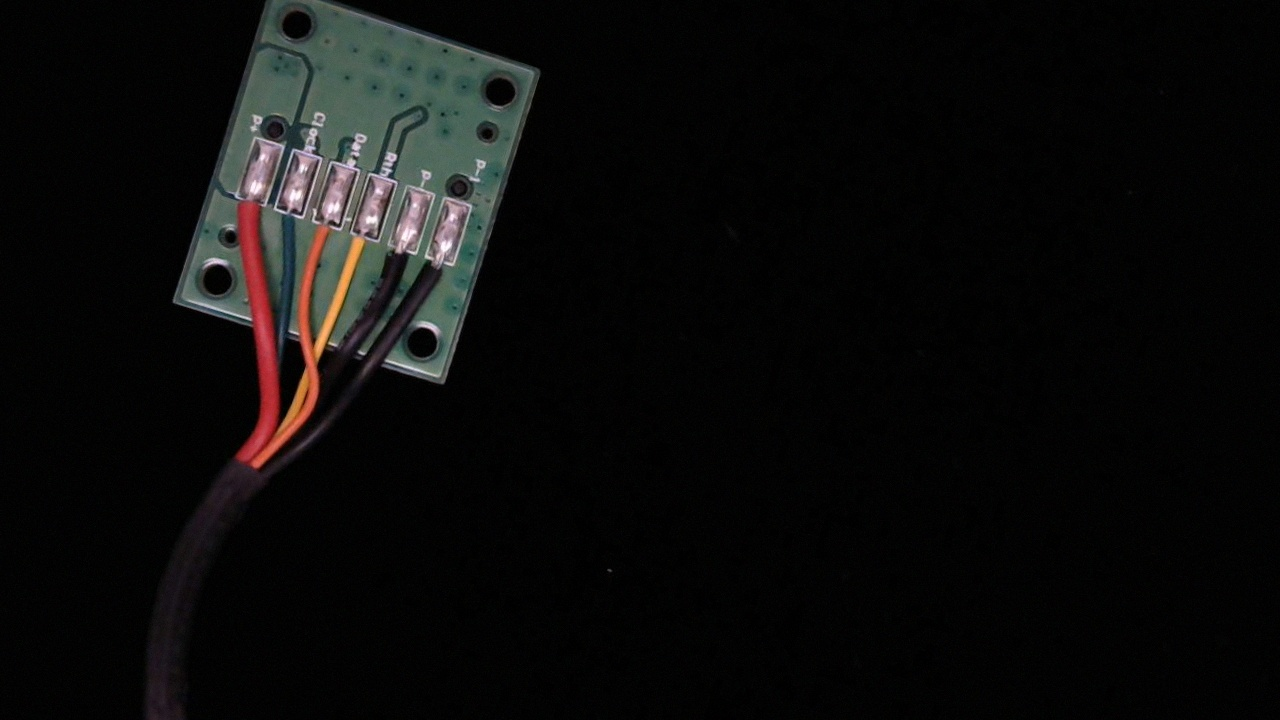Black: (372, 231, 417, 299)
Black1: (411, 244, 458, 309)
Green: (262, 196, 310, 256)
Orange: (300, 207, 346, 271)
Red: (220, 184, 270, 248)
Yellow: (333, 219, 383, 289)
